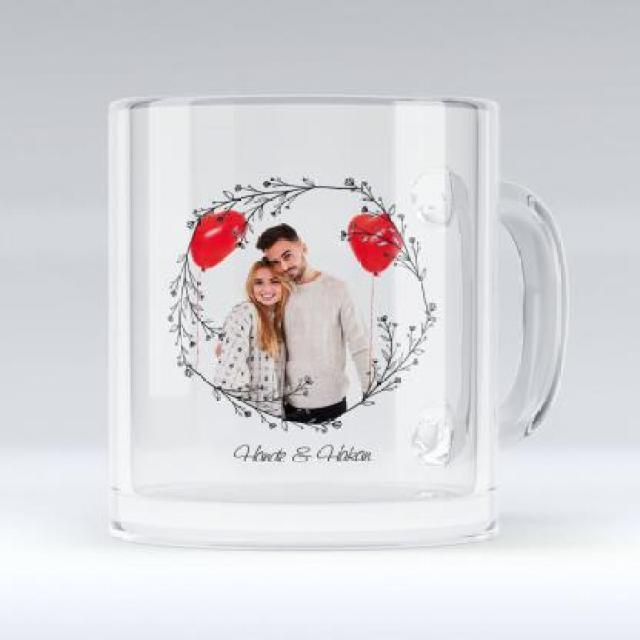taza: (107, 93, 573, 552)
